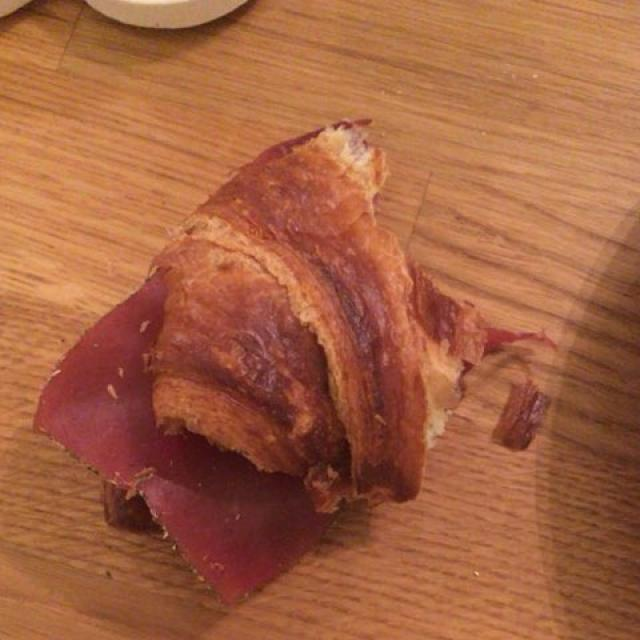croissant: (143, 133, 494, 525)
dried-meat: (54, 194, 329, 592)
